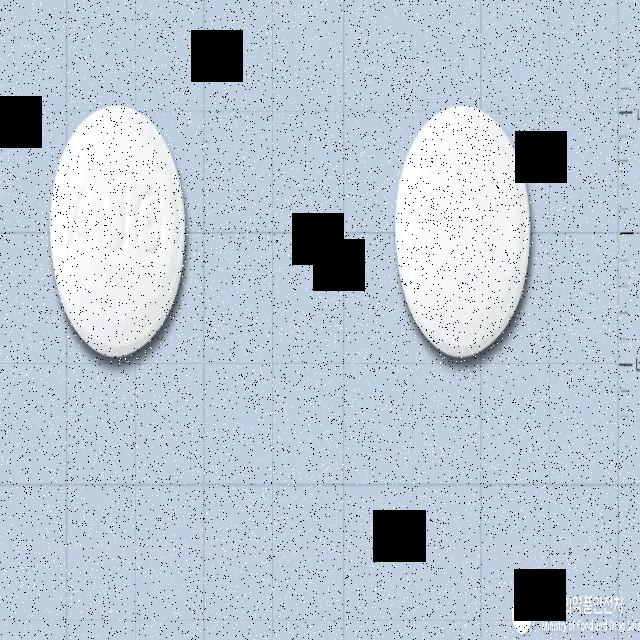Ilsung Augmentin - 625mg: (50, 102, 186, 358)
